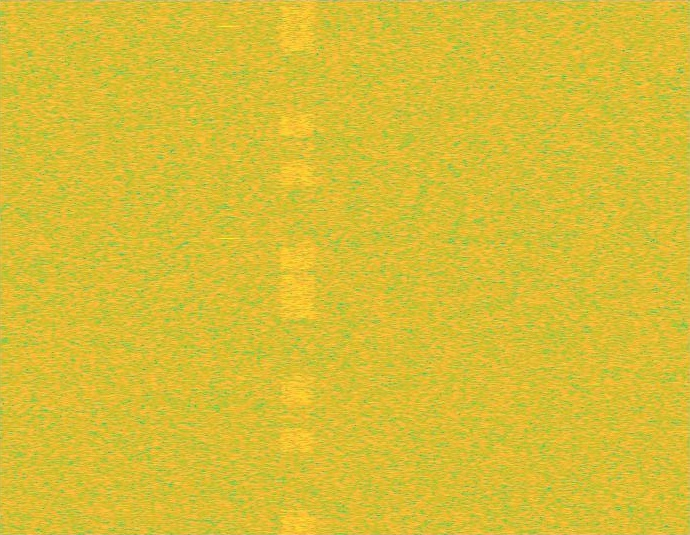LTE: (280, 0, 315, 534)
Radar: (222, 0, 235, 534)
